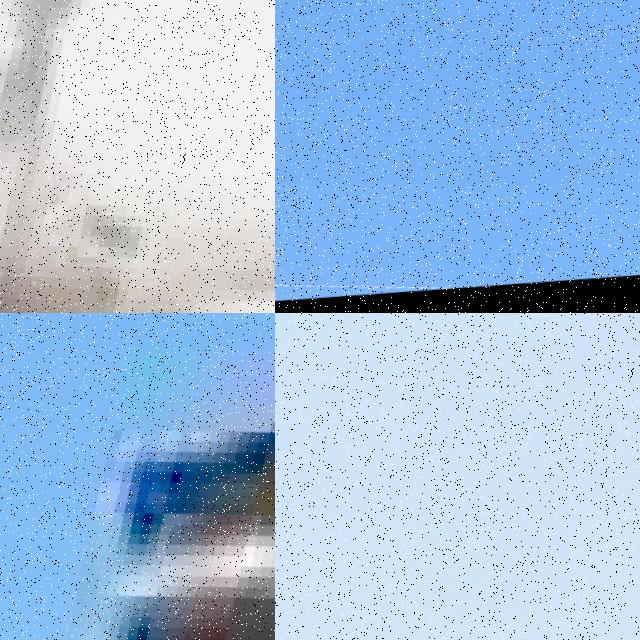0: (275, 0, 640, 313), (0, 313, 275, 640)
drone: (0, 0, 275, 313)
